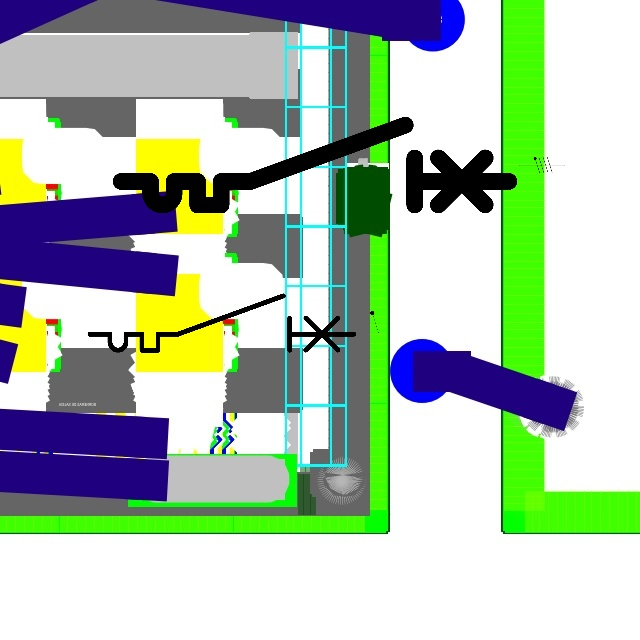interruptor_termomagnetico: (111, 115, 519, 215), (83, 289, 360, 357)
